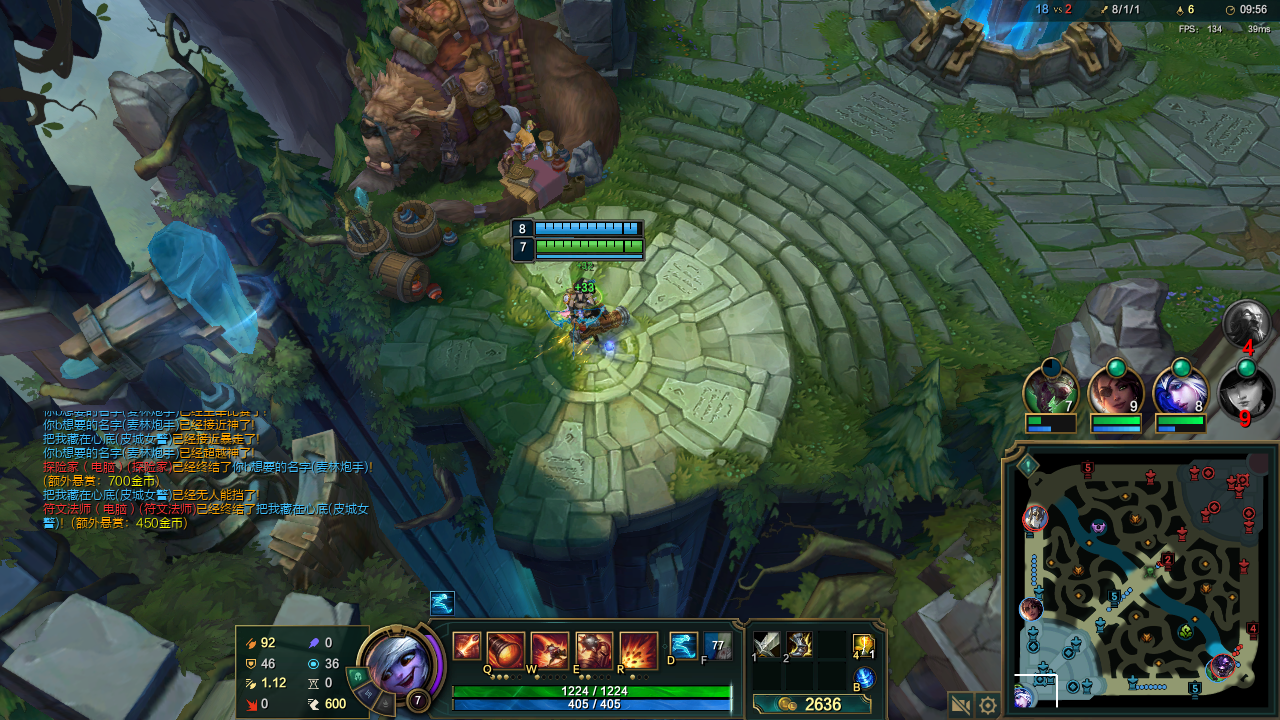Yita: (1186, 674, 1204, 695)
